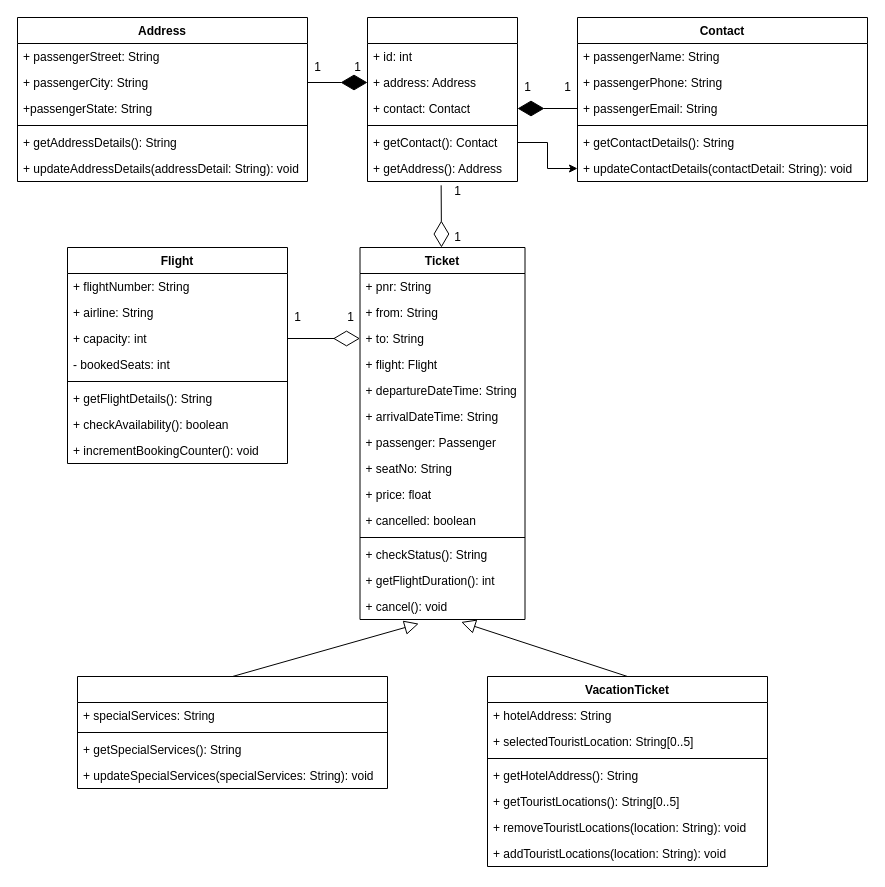
The diagram is 885 pixels wide and 887 high, and some of its shapes have lost their labels. Here are the shapes that lost their labels. From the top down, the box of each, then its label:
(366, 16, 518, 182): Passenger
(76, 676, 388, 788): NormalTicket
